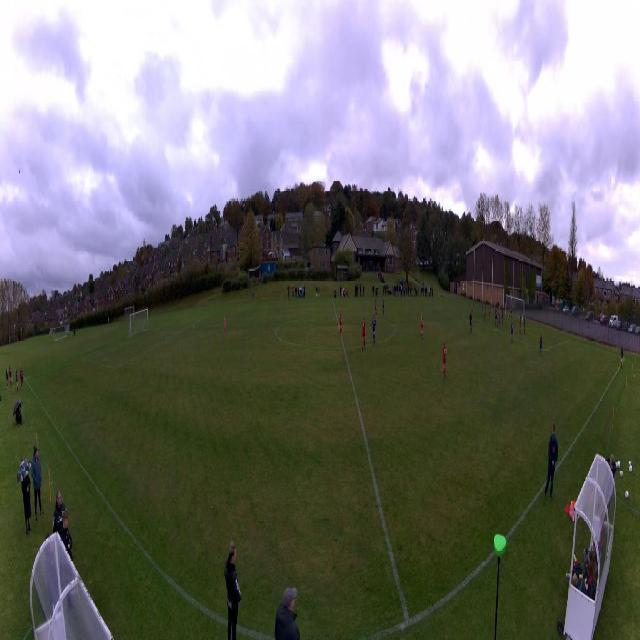player: (370, 314, 377, 345), (442, 342, 448, 376), (362, 319, 366, 349), (339, 309, 343, 336), (469, 310, 473, 334), (539, 334, 543, 356), (421, 313, 424, 339), (224, 314, 227, 338), (484, 308, 488, 325), (511, 321, 514, 343), (498, 307, 501, 327), (382, 297, 385, 315), (495, 310, 498, 327), (374, 300, 377, 317), (509, 307, 513, 319), (519, 316, 521, 334), (524, 316, 526, 334), (501, 308, 503, 325), (472, 303, 474, 318), (488, 304, 490, 319), (482, 303, 484, 318), (494, 304, 496, 318)
